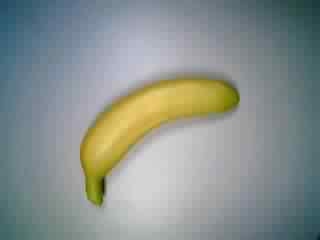banana: (77, 73, 247, 215)
